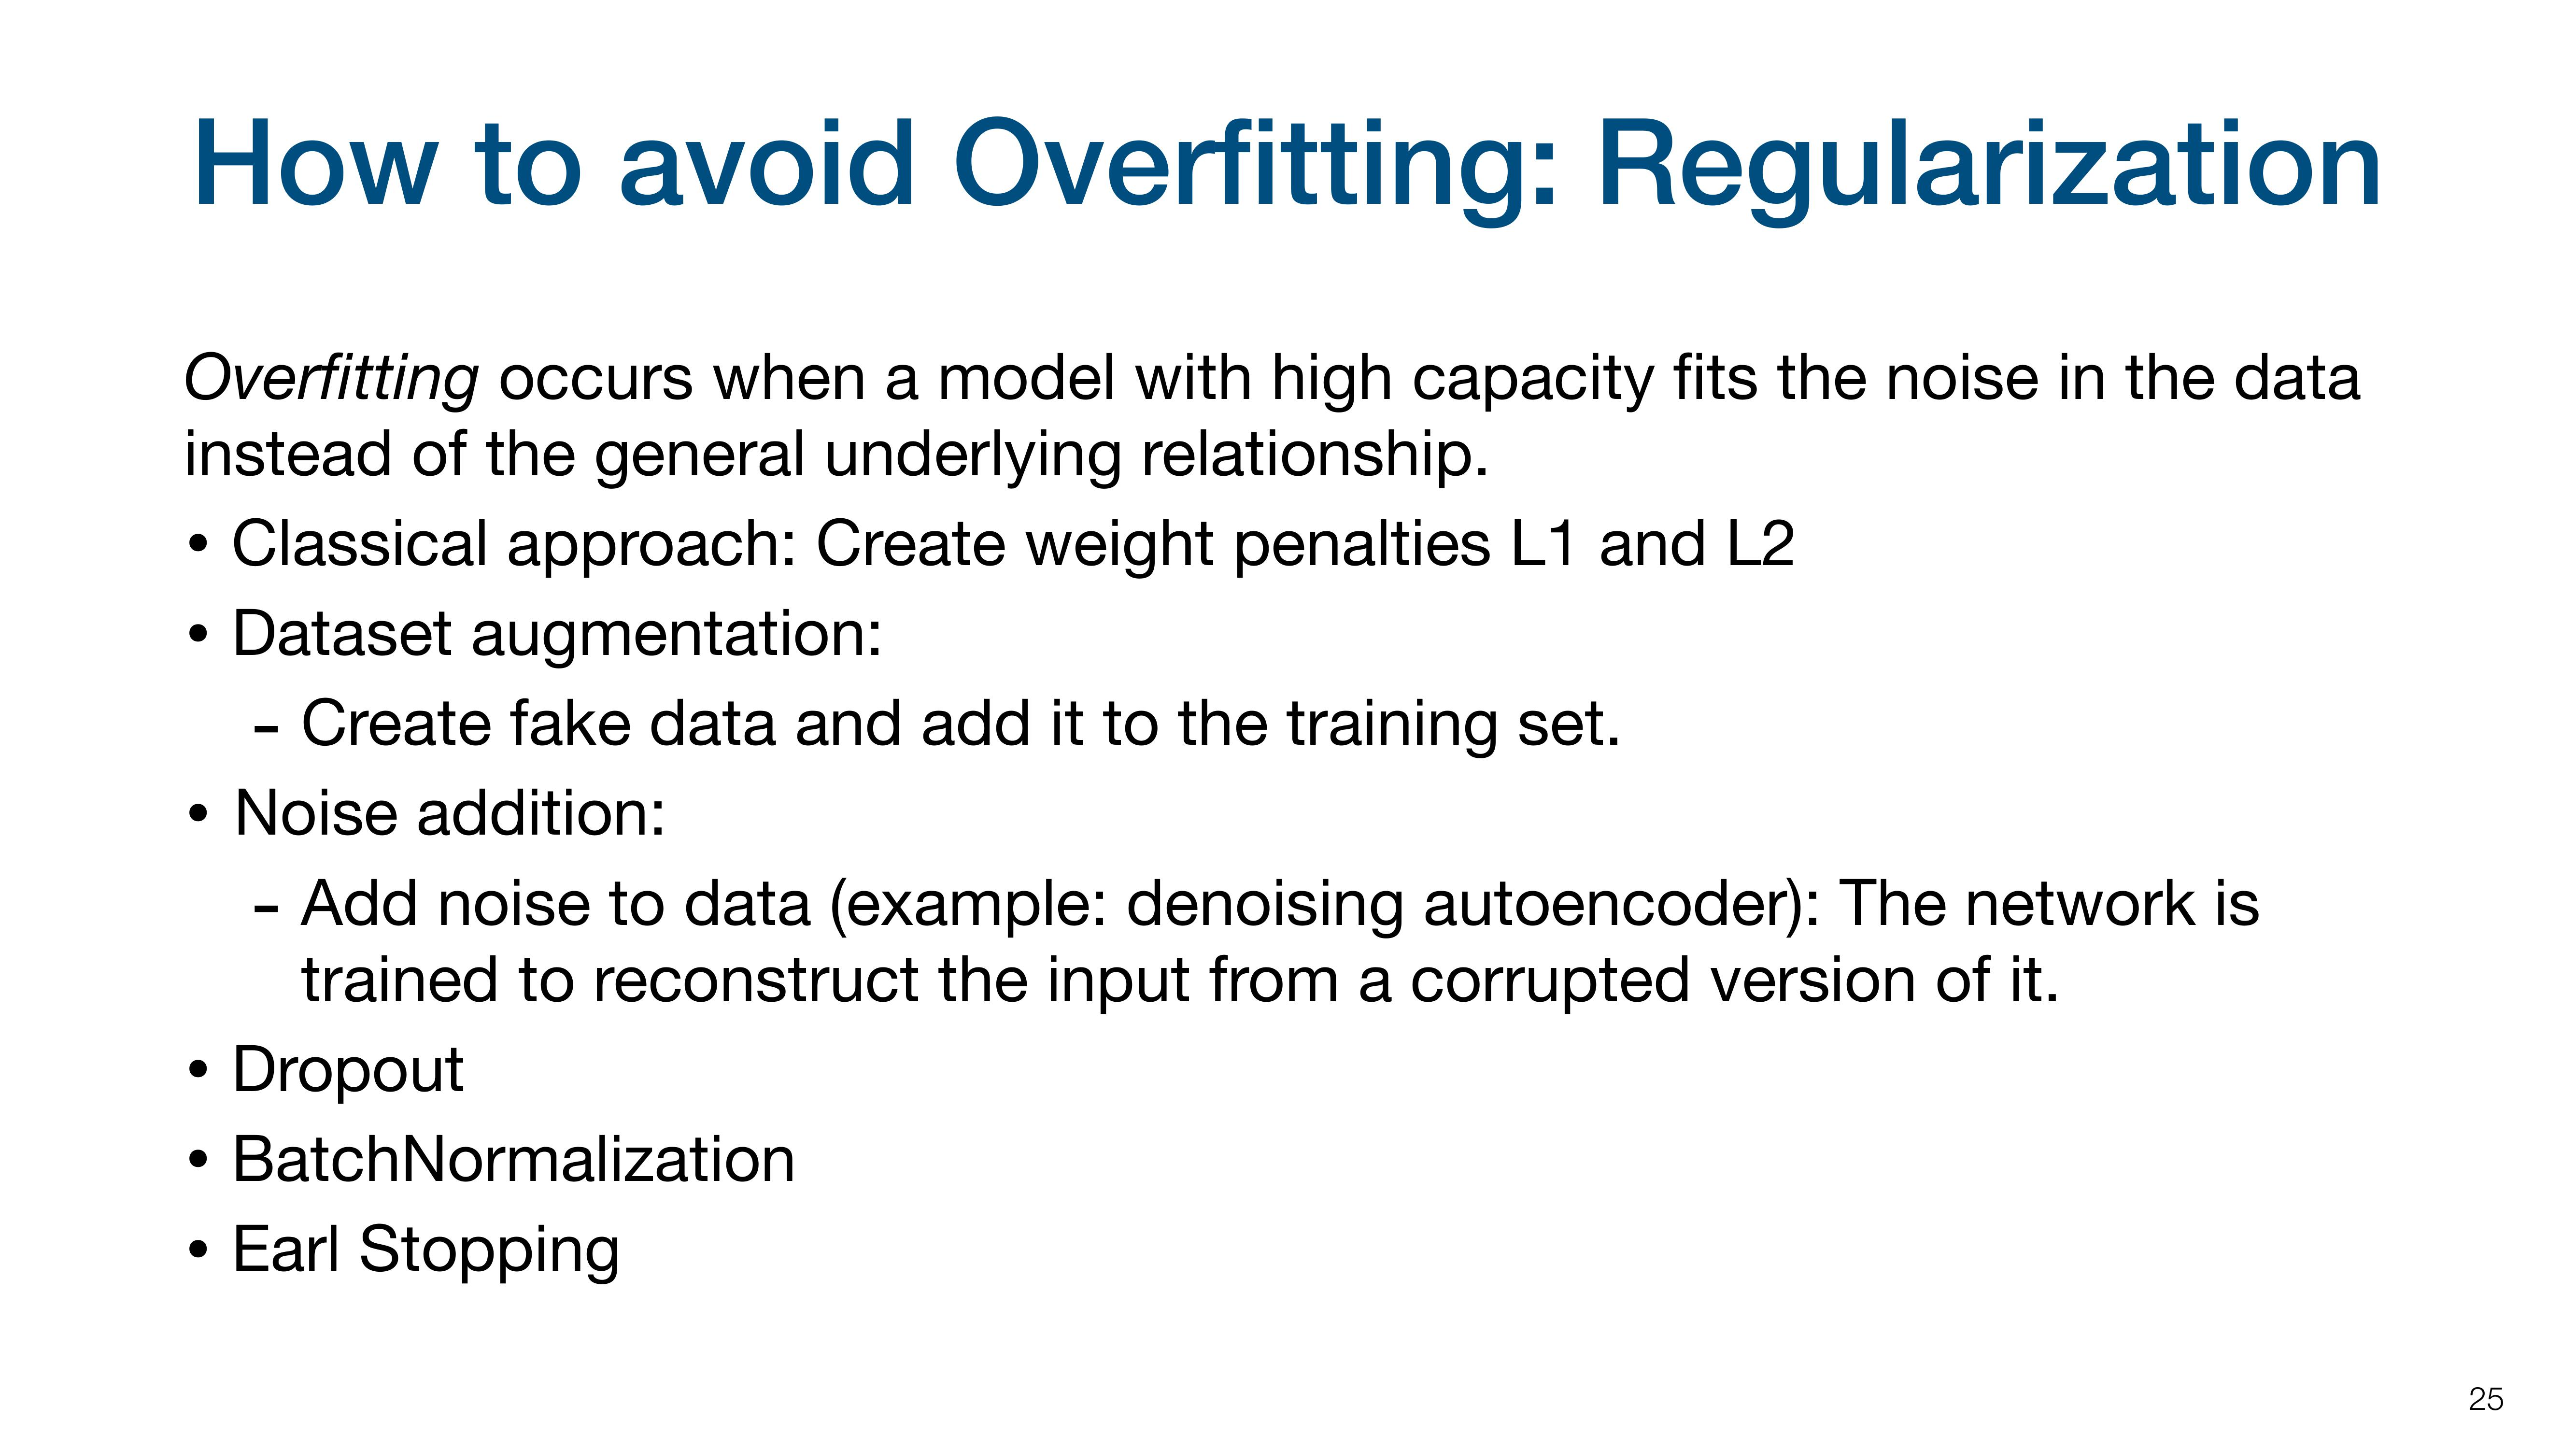Title: (172, 113, 2390, 235)
